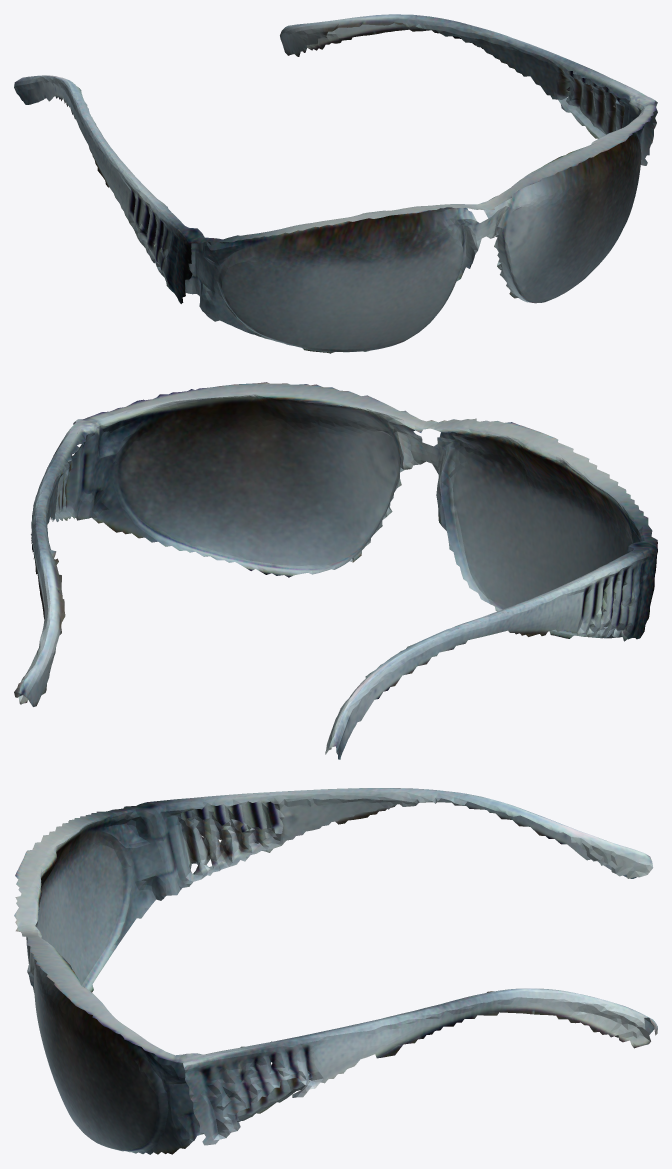
File: scan_align.obj
3 renders of one model, top to bottom at view 1: azimuth 30°, elevation 25°; view 2: azimuth 150°, elevation 25°; view 3: azimuth 270°, elevation 25°, orthographic. The views are drawn at different scales.
Size of the model in its own units: 0.1494 by 0.0439 by 0.1499.
Materials: 1 (1 with a texture image).
